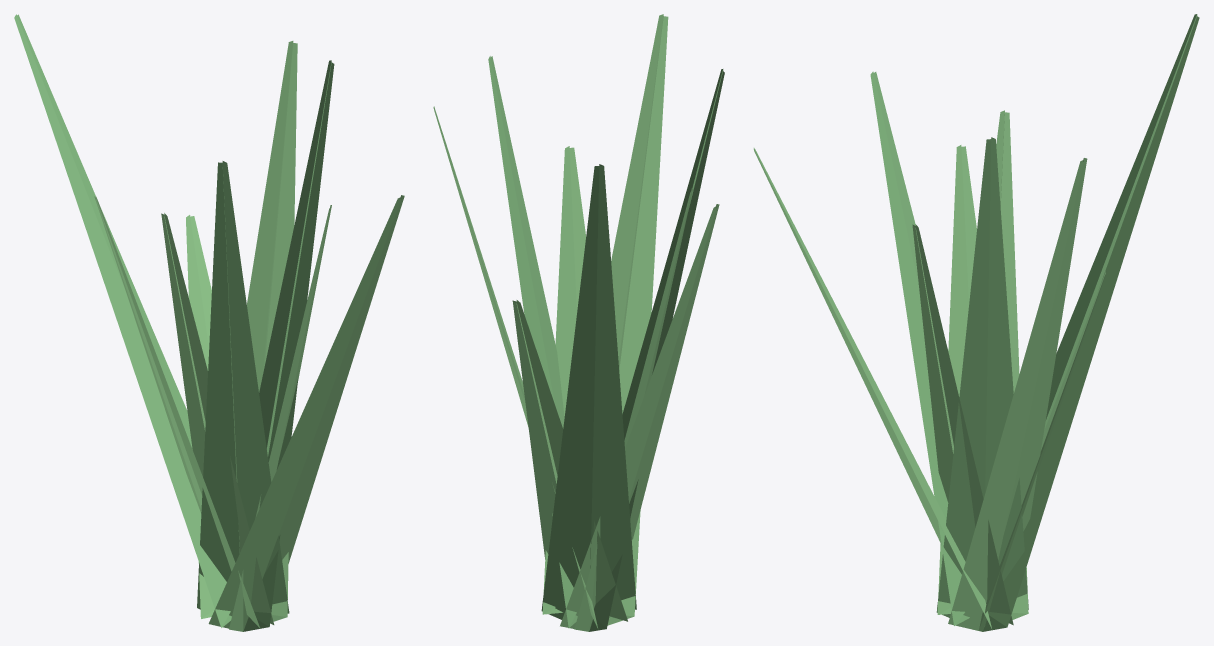
File: ASTX_VEG_GRASS_A.glb
3 renders of one model, left to right at view 1: azimuth 30°, elevation 25°; view 2: azimuth 150°, elevation 25°; view 3: azimuth 270°, elevation 25°, orthographic. The views are drawn at different scales.
Visible parts, largest first — view 1: ASTX_VEG_GRASS_A_blade06, ASTX_VEG_GRASS_A_blade07, ASTX_VEG_GRASS_A_blade03, ASTX_VEG_GRASS_A_blade00, ASTX_VEG_GRASS_A_blade01, ASTX_VEG_GRASS_A_blade05, ASTX_VEG_GRASS_A_blade04, ASTX_VEG_GRASS_A_blade02, ASTX_VEG_GRASS_A_blade08; view 2: ASTX_VEG_GRASS_A_blade03, ASTX_VEG_GRASS_A_blade07, ASTX_VEG_GRASS_A_blade04, ASTX_VEG_GRASS_A_blade02, ASTX_VEG_GRASS_A_blade00, ASTX_VEG_GRASS_A_blade06, ASTX_VEG_GRASS_A_blade08, ASTX_VEG_GRASS_A_blade05, ASTX_VEG_GRASS_A_blade01; view 3: ASTX_VEG_GRASS_A_blade00, ASTX_VEG_GRASS_A_blade01, ASTX_VEG_GRASS_A_blade03, ASTX_VEG_GRASS_A_blade06, ASTX_VEG_GRASS_A_blade08, ASTX_VEG_GRASS_A_blade05, ASTX_VEG_GRASS_A_blade07, ASTX_VEG_GRASS_A_blade04, ASTX_VEG_GRASS_A_blade02.
Boxes of the visible parts, x1=… form: ASTX_VEG_GRASS_A_blade06: x1=197, y1=161, x2=289, y2=613; ASTX_VEG_GRASS_A_blade07: x1=208, y1=195, x2=404, y2=630; ASTX_VEG_GRASS_A_blade03: x1=14, y1=14, x2=231, y2=627; ASTX_VEG_GRASS_A_blade00: x1=243, y1=60, x2=334, y2=631; ASTX_VEG_GRASS_A_blade01: x1=247, y1=41, x2=297, y2=621; ASTX_VEG_GRASS_A_blade05: x1=161, y1=213, x2=274, y2=624; ASTX_VEG_GRASS_A_blade04: x1=94, y1=196, x2=260, y2=628; ASTX_VEG_GRASS_A_blade02: x1=186, y1=215, x2=214, y2=618; ASTX_VEG_GRASS_A_blade08: x1=229, y1=205, x2=331, y2=631; ASTX_VEG_GRASS_A_blade03: x1=541, y1=164, x2=636, y2=619; ASTX_VEG_GRASS_A_blade07: x1=607, y1=14, x2=668, y2=625; ASTX_VEG_GRASS_A_blade04: x1=560, y1=204, x2=719, y2=630; ASTX_VEG_GRASS_A_blade02: x1=512, y1=300, x2=627, y2=621; ASTX_VEG_GRASS_A_blade00: x1=488, y1=56, x2=577, y2=628; ASTX_VEG_GRASS_A_blade06: x1=589, y1=69, x2=724, y2=631; ASTX_VEG_GRASS_A_blade08: x1=542, y1=146, x2=586, y2=614; ASTX_VEG_GRASS_A_blade05: x1=574, y1=188, x2=693, y2=631; ASTX_VEG_GRASS_A_blade01: x1=433, y1=106, x2=597, y2=628; ASTX_VEG_GRASS_A_blade00: x1=936, y1=137, x2=1028, y2=617; ASTX_VEG_GRASS_A_blade01: x1=948, y1=158, x2=1087, y2=631; ASTX_VEG_GRASS_A_blade03: x1=983, y1=14, x2=1199, y2=631; ASTX_VEG_GRASS_A_blade06: x1=870, y1=71, x2=969, y2=625; ASTX_VEG_GRASS_A_blade08: x1=912, y1=224, x2=1013, y2=625; ASTX_VEG_GRASS_A_blade05: x1=937, y1=145, x2=976, y2=614; ASTX_VEG_GRASS_A_blade07: x1=753, y1=148, x2=991, y2=628; ASTX_VEG_GRASS_A_blade04: x1=937, y1=110, x2=1028, y2=619; ASTX_VEG_GRASS_A_blade02: x1=979, y1=271, x2=1106, y2=631.
Size of the model in its own units: 0.2672 by 0.6024 by 0.4345.
